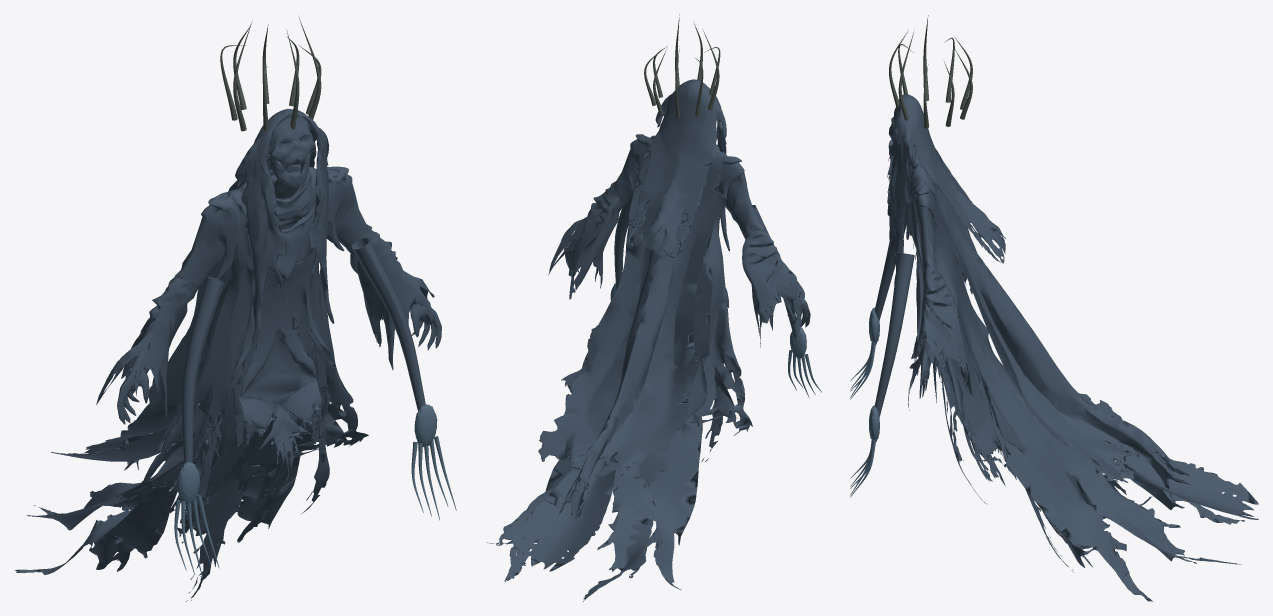
Rendered from 16-the-cave-mouth.glb.
The picture shows the model from 3 angles, left to right: view 1: azimuth 30°, elevation 25°; view 2: azimuth 150°, elevation 25°; view 3: azimuth 270°, elevation 25°; orthographic projection. The views are drawn at different scales.
Visible parts, largest first — view 1: sculpt (×4); view 2: sculpt (×3); view 3: sculpt (×4).
Part boxes in pixels (x1,y1,x2,y2): sculpt (×4): (15,16,456,601); sculpt (×3): (487,14,821,601); sculpt (×4): (850,15,1258,601).
Bounding box in the file's own units: 2.52 × 4.74 × 3.18.
